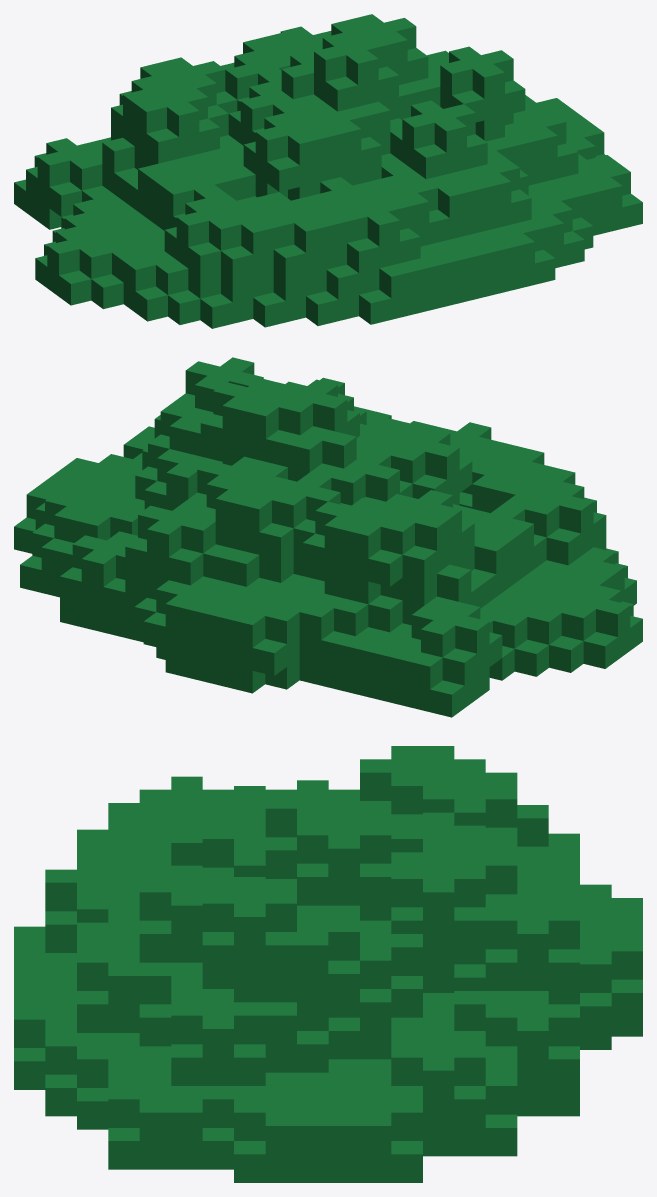
File: arbusto_pequeño_03.fbx
The picture shows the model from 3 angles, top to bottom: view 1: azimuth 30°, elevation 25°; view 2: azimuth 150°, elevation 25°; view 3: azimuth 270°, elevation 25°; orthographic projection. The views are drawn at different scales.
Parts seen in each view (by area): view 1: arbusto_Pequeño03; view 2: arbusto_Pequeño03; view 3: arbusto_Pequeño03.
Part boxes in pixels (box(x1,y1,x2,y2)): arbusto_Pequeño03: box(14, 14, 642, 328); arbusto_Pequeño03: box(14, 357, 642, 717); arbusto_Pequeño03: box(14, 746, 642, 1182).
Size of the model in its own units: 260 by 80 by 200.
1 material, 1 textured.
